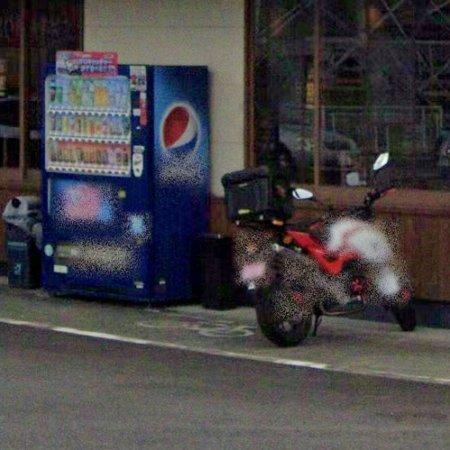motorcycles: (223, 153, 416, 347)
